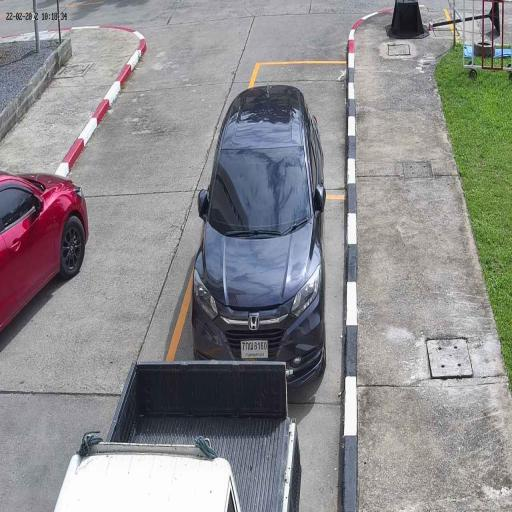car: (192, 84, 326, 390), (54, 361, 302, 512), (0, 172, 89, 339)
